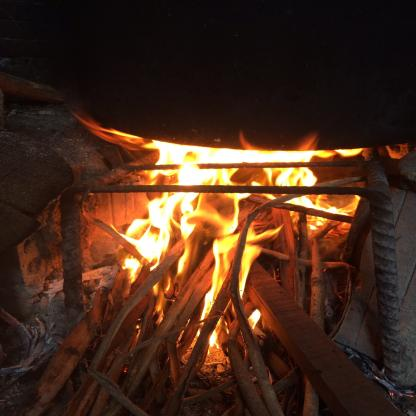fire: (73, 119, 415, 354)
